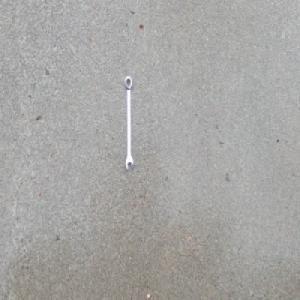Wrench: (123, 74, 134, 171)
